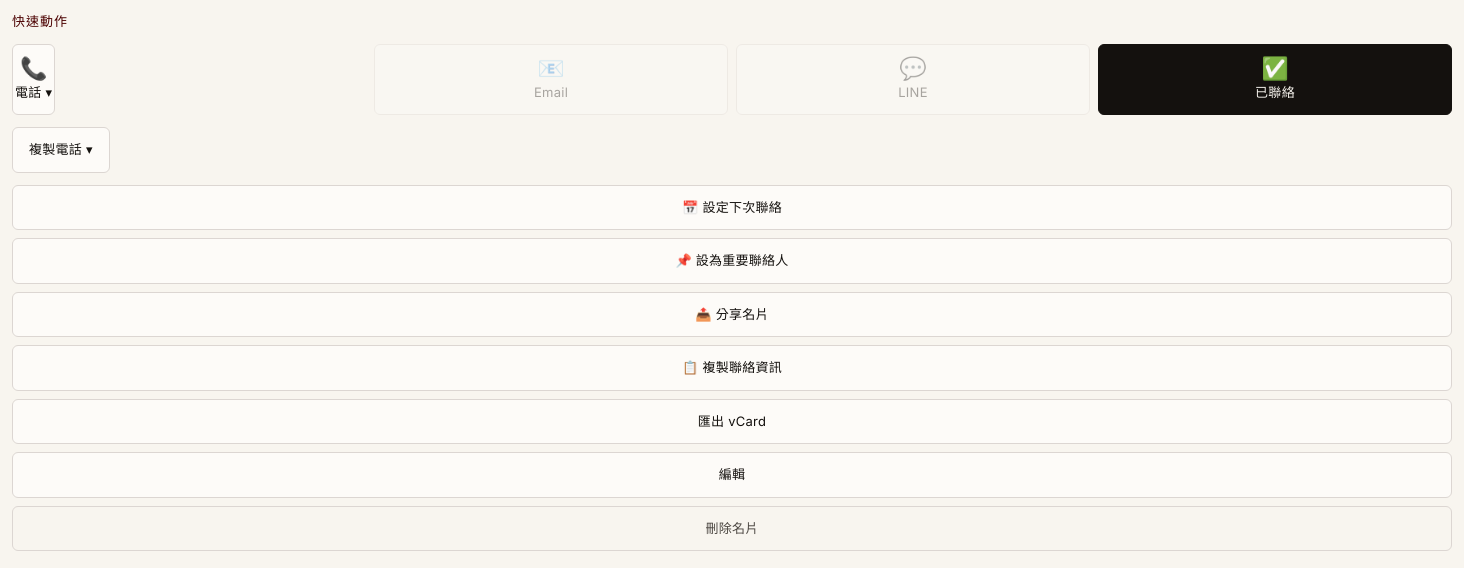
Test: CardActions quick CTA row › multi-value channel picker › opens picker on click and lists all phone entries
Step 1. Click the button with aria-label "電話 (2 個選項)" → (34, 79), box [12,44,55,115]
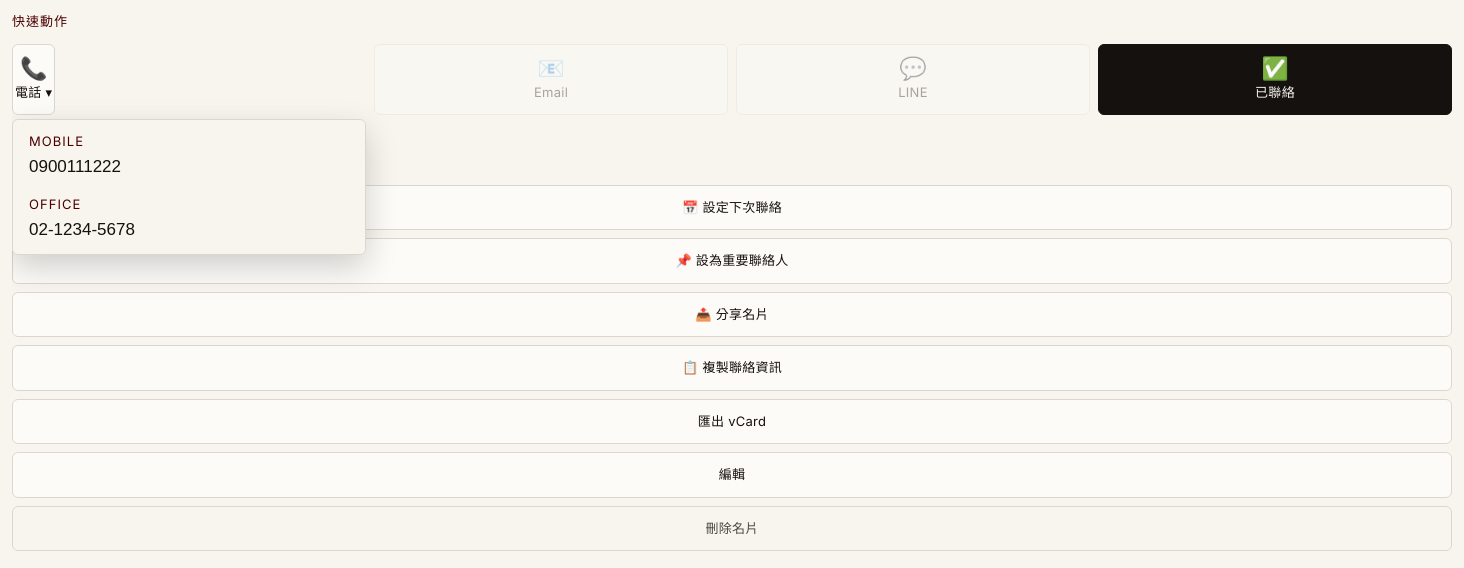
Now the number of menu items is 2, box [29,133,121,176]; [29,196,135,238]
